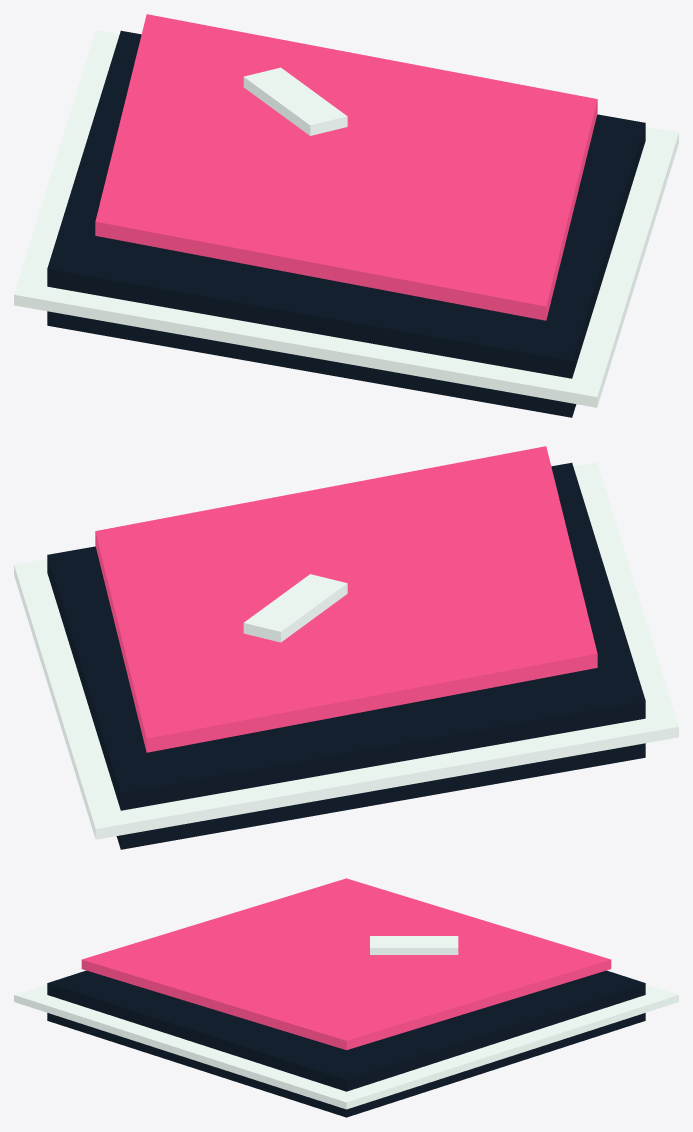
File: enemy-aimed.glb
3 views of the same model, one above another, from view 1: azimuth 30°, elevation 25°; view 2: azimuth 150°, elevation 25°; view 3: azimuth 270°, elevation 25° (orthographic). The views are drawn at different scales.
Parts seen in each view (by area): view 1: enemy-aimed-enemy-aimed-geometry; view 2: enemy-aimed-enemy-aimed-geometry; view 3: enemy-aimed-enemy-aimed-geometry.
Boxes of the visible parts, <box> form: enemy-aimed-enemy-aimed-geometry: <box>14,14,678,417</box>; enemy-aimed-enemy-aimed-geometry: <box>14,446,678,849</box>; enemy-aimed-enemy-aimed-geometry: <box>14,878,678,1117</box>.
Bounding box in the file's own units: 0.98 × 0.1675 × 1.28.
